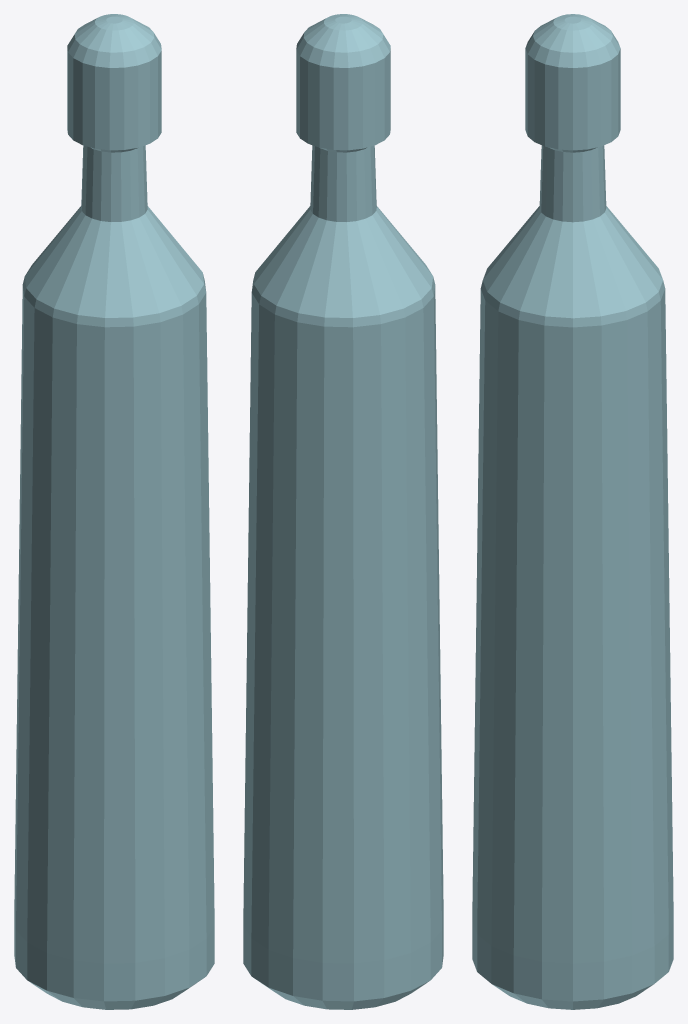
File: bottel.fbx
3 views of the same model, side by side, from view 1: azimuth 30°, elevation 25°; view 2: azimuth 150°, elevation 25°; view 3: azimuth 270°, elevation 25° (orthographic).
Visible parts, largest first — view 1: diiner_objects_1:dner_objects:pCylinder2; view 2: diiner_objects_1:dner_objects:pCylinder2; view 3: diiner_objects_1:dner_objects:pCylinder2.
Part boxes in pixels (x1,y1,x2,y2): diiner_objects_1:dner_objects:pCylinder2: (14,14,214,1009); diiner_objects_1:dner_objects:pCylinder2: (243,14,443,1009); diiner_objects_1:dner_objects:pCylinder2: (472,14,673,1009).
Bounding box in the file's own units: 1.32 × 6.92 × 1.32.
